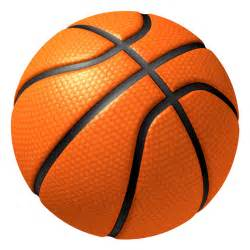basketball: (8, 9, 241, 241)
